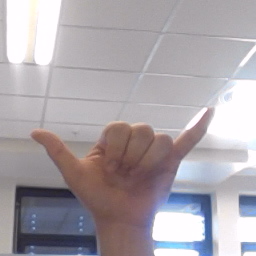Y: (28, 105, 218, 233)
